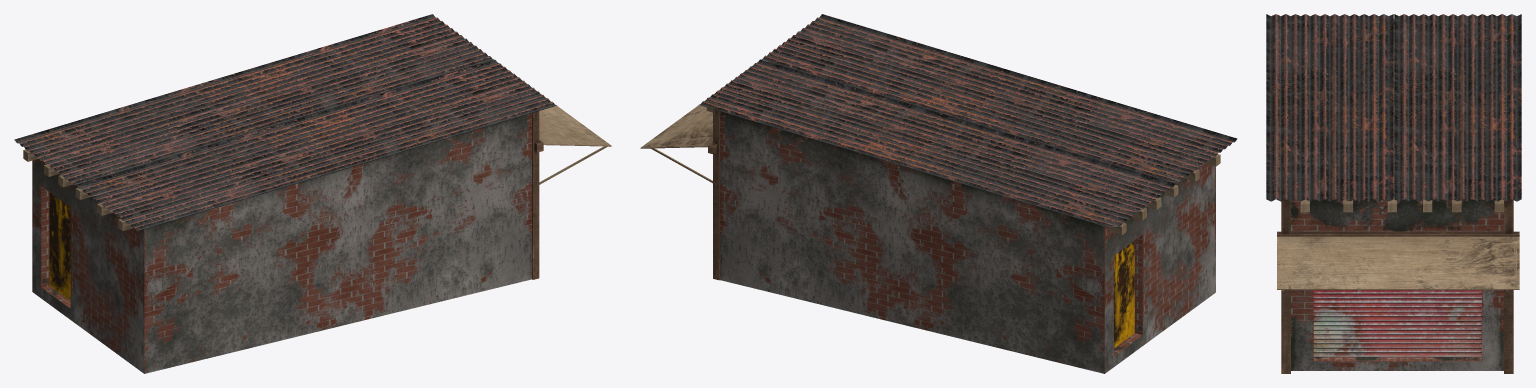
The model's file is slum2.glb.
3 renders of one model, left to right at view 1: azimuth 30°, elevation 25°; view 2: azimuth 150°, elevation 25°; view 3: azimuth 270°, elevation 25°, orthographic. The views are drawn at different scales.
Parts seen in each view (by area): view 1: Plane; view 2: Plane; view 3: Plane.
Boxes of the visible parts, x1,y1,x2,y2 form: Plane: (14,14,611,373); Plane: (640,14,1237,373); Plane: (1266,14,1521,373).
Bounding box in the file's own units: 1182 × 415 × 534.
Materials: 1 (1 with a texture image).
